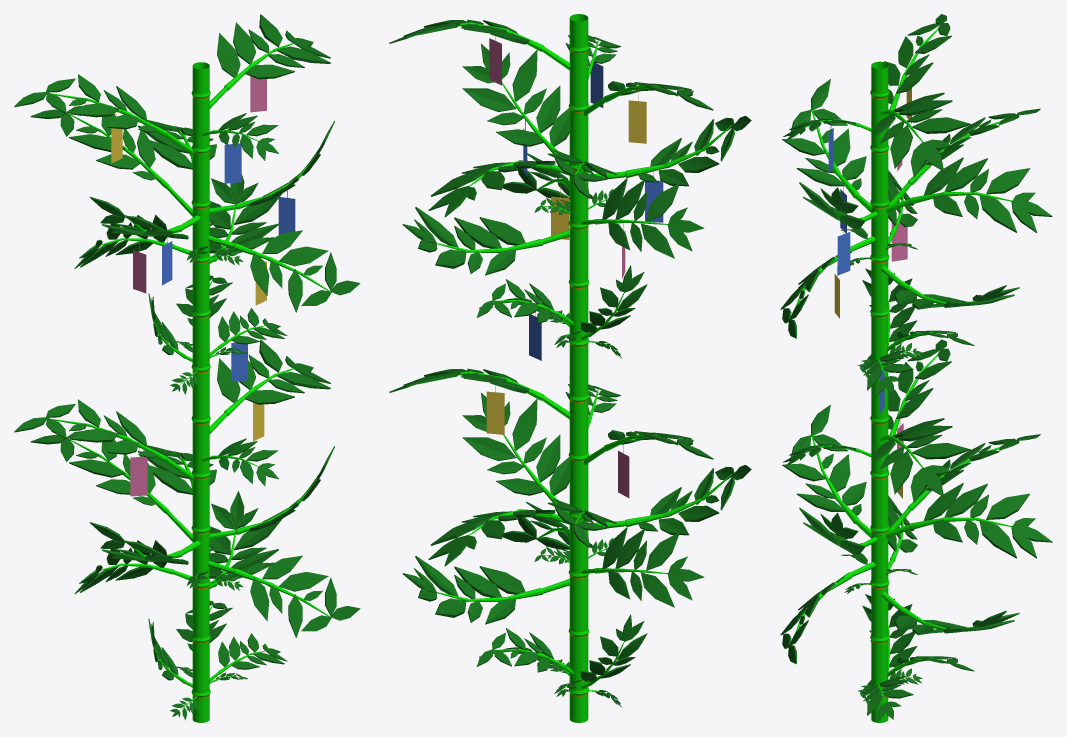
The model's file is Bamboo.glb.
3 renders of one model, left to right at view 1: azimuth 30°, elevation 25°; view 2: azimuth 150°, elevation 25°; view 3: azimuth 270°, elevation 25°, orthographic. The views are drawn at different scales.
Parts seen in each view (by area): view 1: Circle.001, Cylinder.003, Cylinder.001, Cylinder.009, Cylinder.002, Cylinder.005, Cylinder.004; view 2: Circle.001, Cylinder.007, Cylinder.006; view 3: Circle.001, Cylinder.009, Cylinder.004.
Boxes of the visible parts, x1,y1,x2,y2 form: Circle.001: (14,14,360,722); Cylinder.003: (130,447,147,496); Cylinder.001: (224,133,241,183); Cylinder.009: (278,190,295,234); Cylinder.002: (231,331,247,381); Cylinder.005: (250,63,266,112); Cylinder.004: (133,241,146,293); Circle.001: (389,14,751,722); Cylinder.007: (628,90,646,143); Cylinder.006: (486,385,504,434); Circle.001: (780,14,1052,722); Cylinder.009: (837,223,850,275); Cylinder.004: (891,223,907,261).
Bounding box in the file's own units: 40.7 × 83.85 × 31.64.
